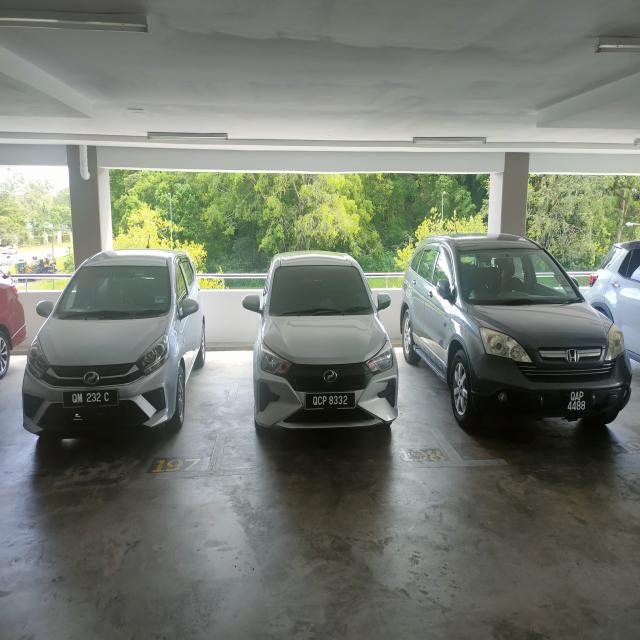PeroduaAxia: (37, 216, 196, 449), (238, 235, 399, 450)
